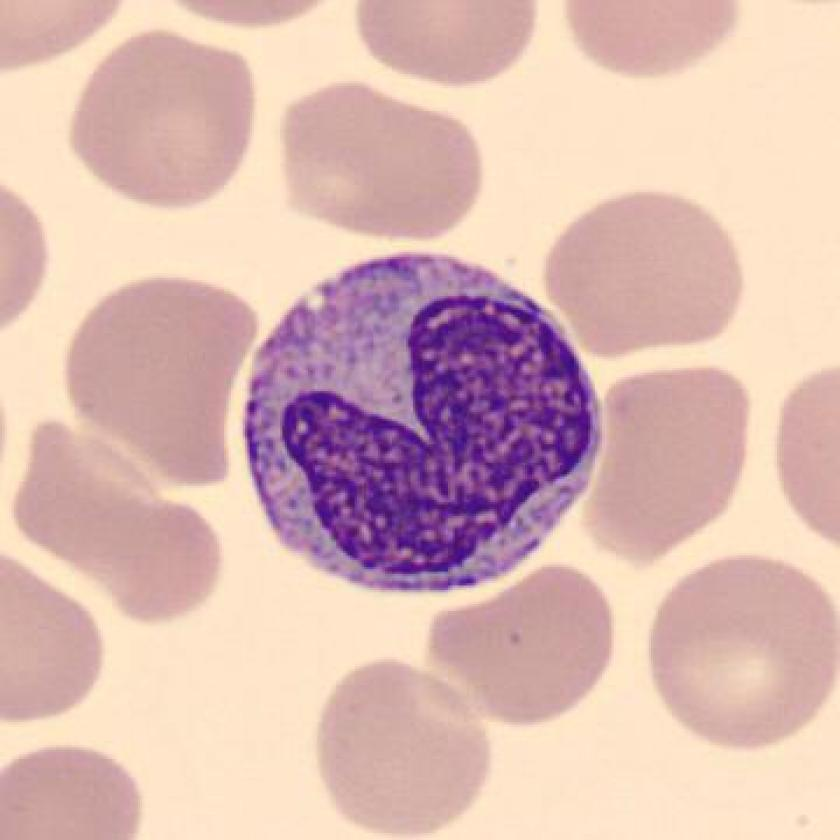monocyte: (213, 228, 631, 621)
